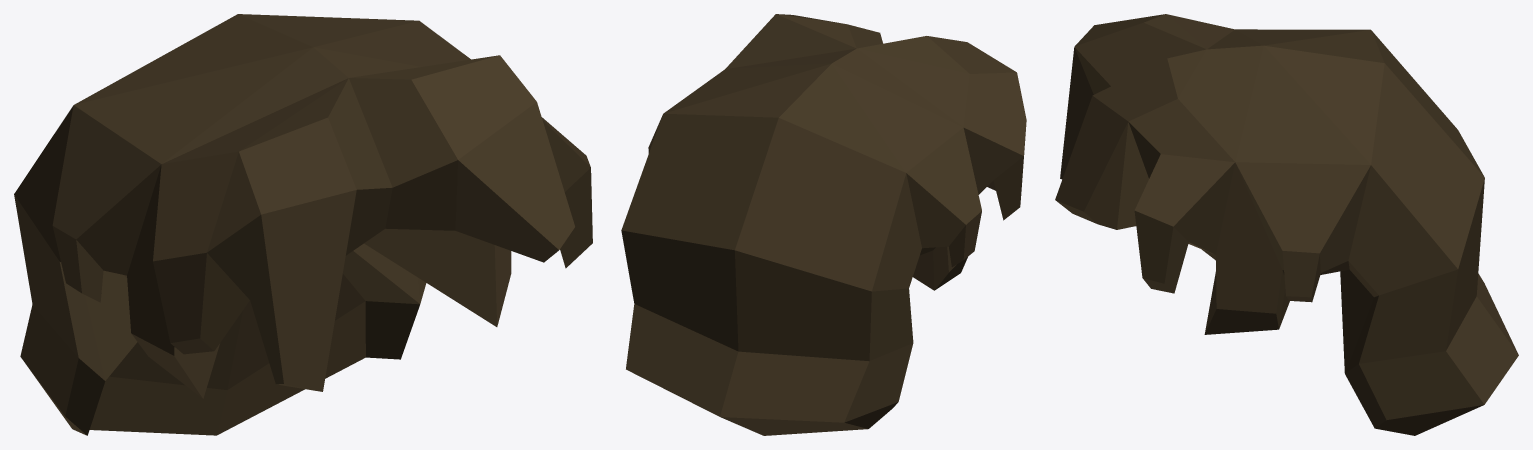
Rendered from Chr_Hair_23_Static.fbx.
3 renders of one model, left to right at view 1: azimuth 30°, elevation 25°; view 2: azimuth 150°, elevation 25°; view 3: azimuth 270°, elevation 25°, orthographic. The views are drawn at different scales.
Visible parts, largest first — view 1: Chr_Hair_23_Static; view 2: Chr_Hair_23_Static; view 3: Chr_Hair_23_Static.
Boxes of the visible parts, left/top/right/bottom form: Chr_Hair_23_Static: left=14, top=14, right=592, bottom=435; Chr_Hair_23_Static: left=621, top=14, right=1026, bottom=435; Chr_Hair_23_Static: left=1055, top=14, right=1518, bottom=435.
Bounding box in the file's own units: 0.314 × 0.3044 × 0.3458.
